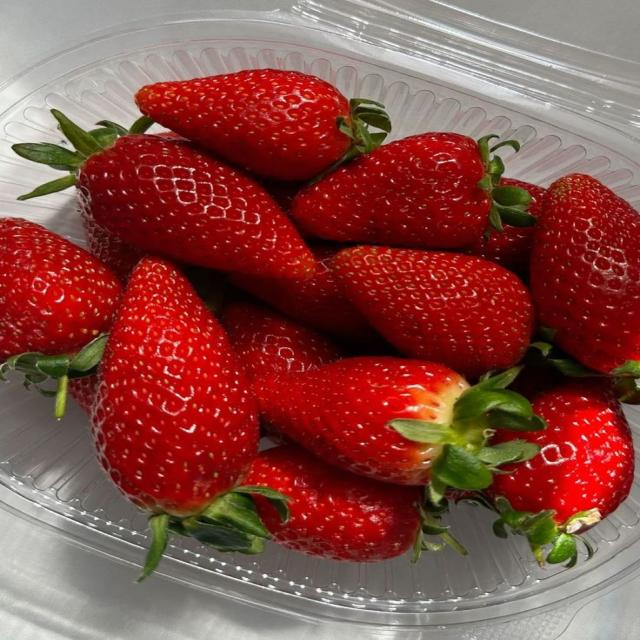strawberry: (92, 258, 267, 578), (14, 110, 315, 277), (93, 258, 258, 516), (254, 357, 543, 497), (136, 69, 390, 180), (293, 133, 534, 248), (489, 378, 633, 562), (333, 246, 533, 377), (531, 174, 639, 376), (247, 445, 421, 562), (0, 218, 121, 358), (231, 245, 379, 343), (220, 301, 341, 379), (80, 209, 143, 281), (81, 211, 143, 281), (465, 224, 535, 274), (68, 374, 99, 415)
